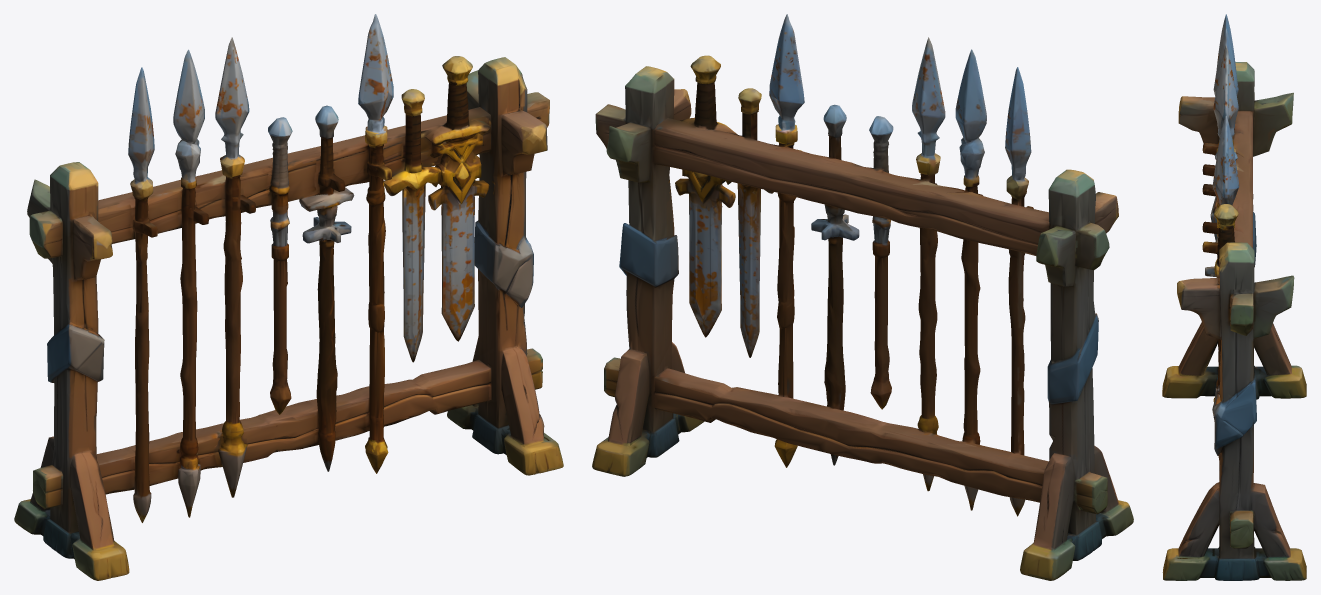
The model's file is oldweaponrack.glb.
3 views of the same model, side by side, from view 1: azimuth 30°, elevation 25°; view 2: azimuth 150°, elevation 25°; view 3: azimuth 270°, elevation 25° (orthographic). The views are drawn at different scales.
Parts seen in each view (by area): view 1: node_0; view 2: node_0; view 3: node_0.
Part boxes in pixels (box(x1,y1,x2,y2)): node_0: box(14, 14, 563, 580); node_0: box(592, 14, 1133, 580); node_0: box(1162, 14, 1306, 580).
Bounding box in the file's own units: 0.9064 × 0.8111 × 0.2583.
Materials: 1 (1 with a texture image).
